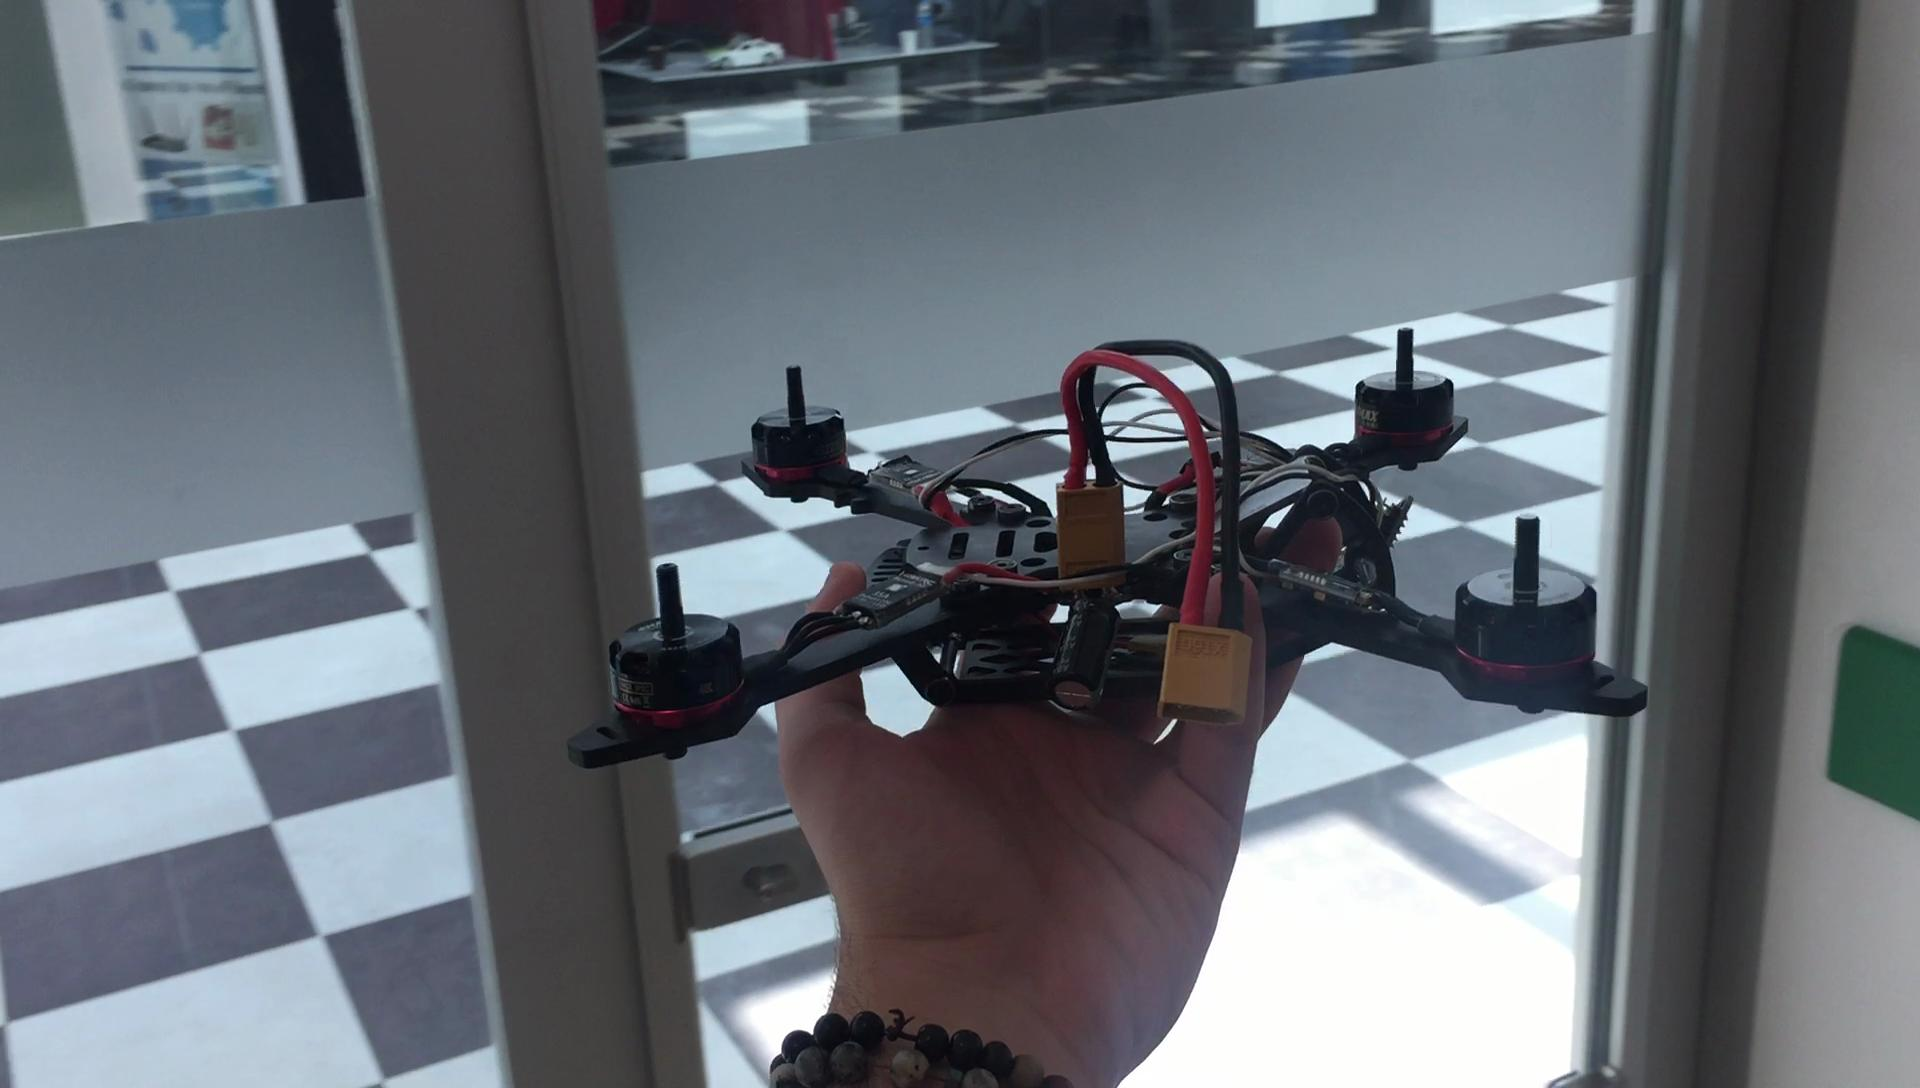drone: (603, 310, 1646, 786)
